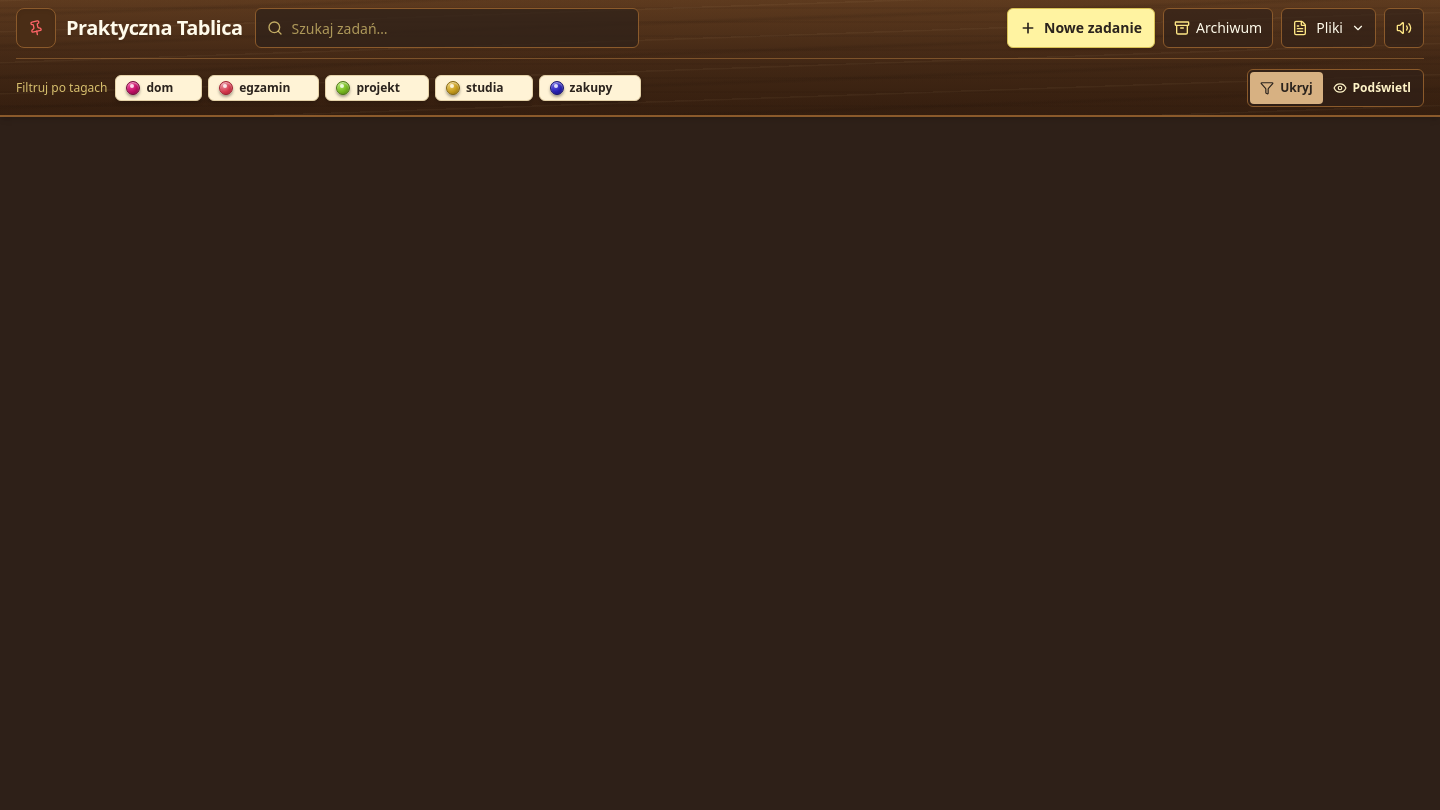
Test: Milestone M3 — TopBar, TaskModal, ContextMenu & Toast › TopBar component › opens create TaskModal when clicking "+ Nowe zadanie"
Click the button with test id "btn-new-task".
click(1081, 28)  # box [1007,8,1155,48]
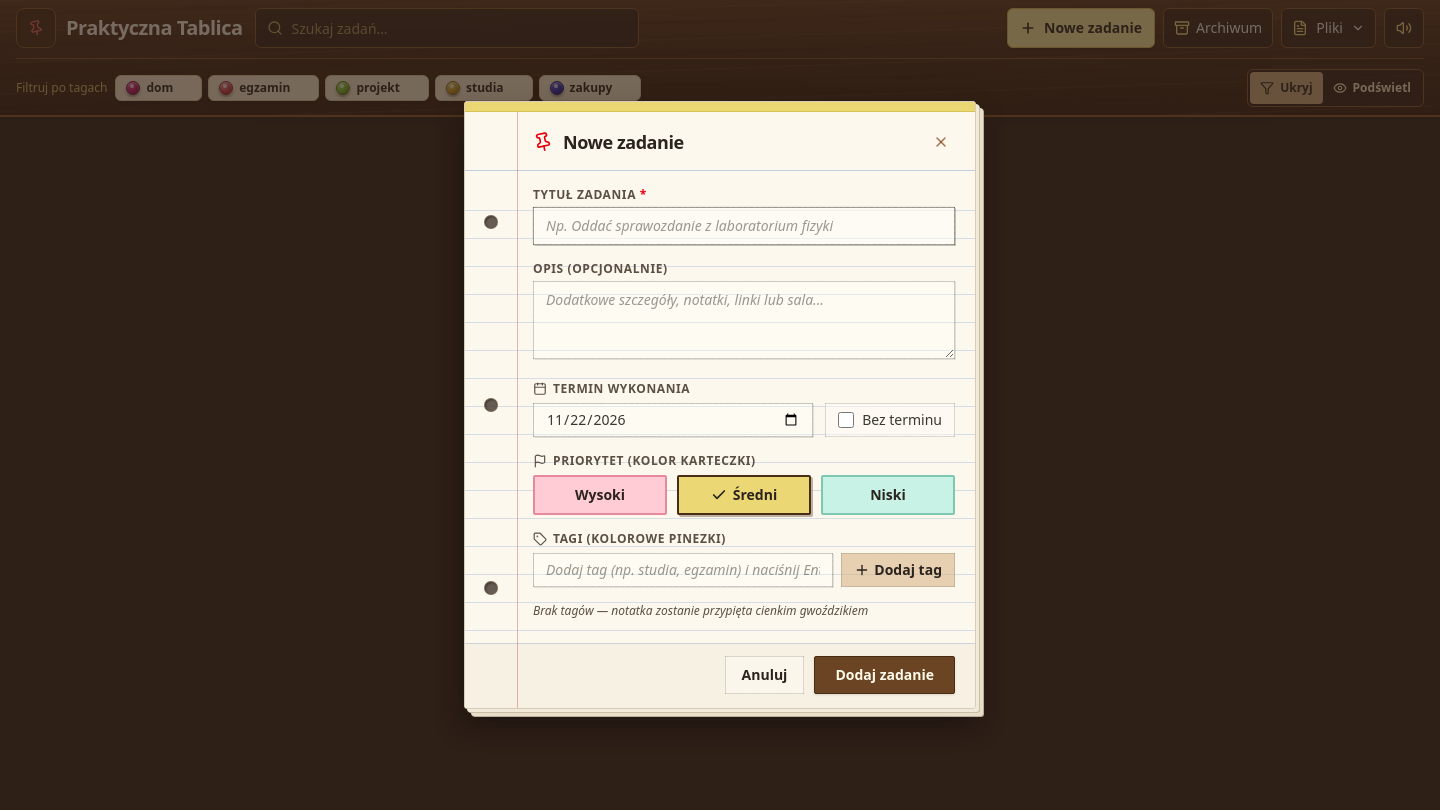
Expected: the dialog with test id "task-modal" is shown
